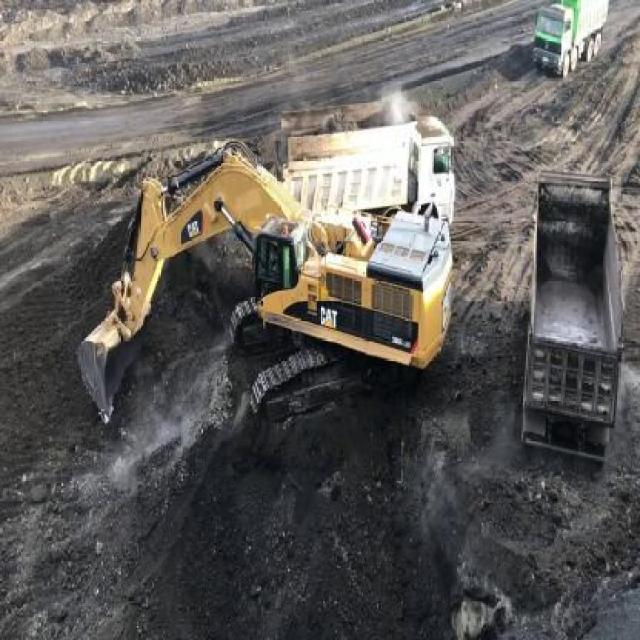dump_truck: (517, 162, 626, 464), (270, 111, 456, 226), (530, 0, 609, 78)
excavator: (69, 140, 454, 434)
